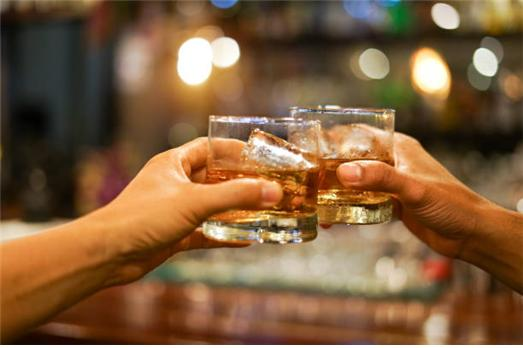alcohol: (206, 114, 318, 243), (291, 107, 394, 226)
